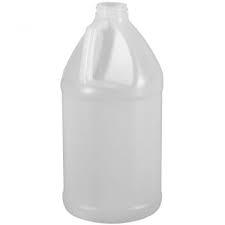Plastic can: (57, 1, 173, 220)
